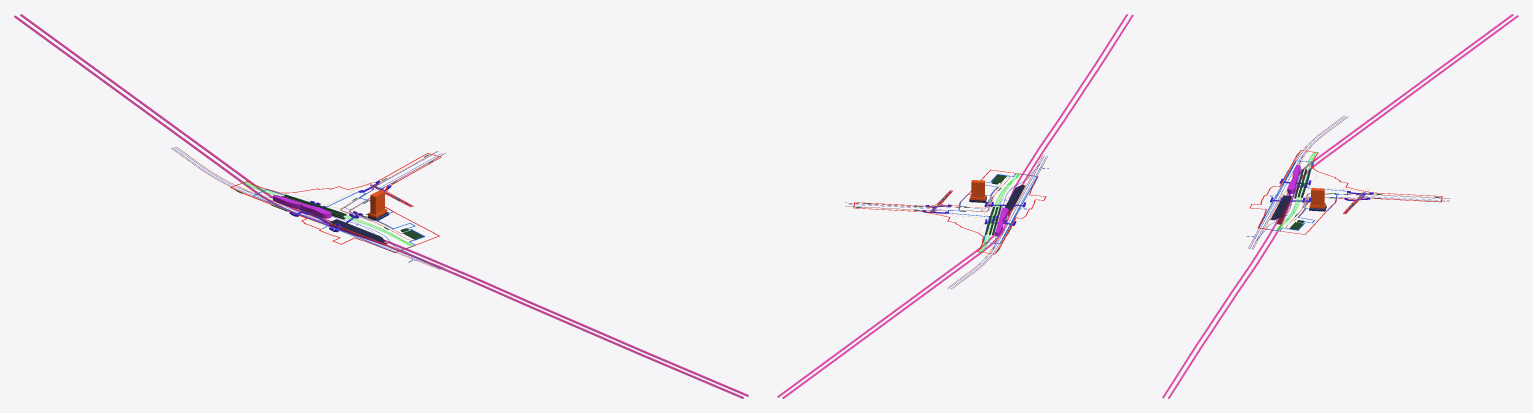
Rendered from MODEL_Layers.FBX.
The picture shows the model from 3 angles, left to right: view 1: azimuth 30°, elevation 25°; view 2: azimuth 150°, elevation 25°; view 3: azimuth 330°, elevation 25°; orthographic projection. The views are drawn at different scales.
Parts seen in each view (by area): view 1: L_Traffic_Subway_Line, L_Traffic_Car, L_PPT, L_Traffic_Bus; view 2: L_Traffic_Subway_Line, L_Traffic_Car, L_PPT, L_Traffic_Bus, L_GZRO; view 3: L_Traffic_Subway_Line, L_Traffic_Car, L_PPT, L_Traffic_Bus, L_GZRO.
Boxes of the visible parts, <box> form: L_Traffic_Subway_Line: <box>14,14,748,398</box>; L_Traffic_Car: <box>172,147,443,269</box>; L_PPT: <box>230,153,441,252</box>; L_Traffic_Bus: <box>171,146,446,269</box>; L_Traffic_Subway_Line: <box>777,14,1133,398</box>; L_Traffic_Car: <box>845,155,1048,288</box>; L_PPT: <box>853,169,1046,254</box>; L_Traffic_Bus: <box>845,155,1047,288</box>; L_GZRO: <box>947,173,1037,243</box>; L_Traffic_Subway_Line: <box>1162,14,1518,398</box>; L_Traffic_Car: <box>1247,116,1448,249</box>; L_PPT: <box>1249,150,1442,234</box>; L_Traffic_Bus: <box>1248,116,1450,249</box>; L_GZRO: <box>1258,160,1348,231</box>.
Bounding box in the file's own units: 917 × 114 × 4505.
